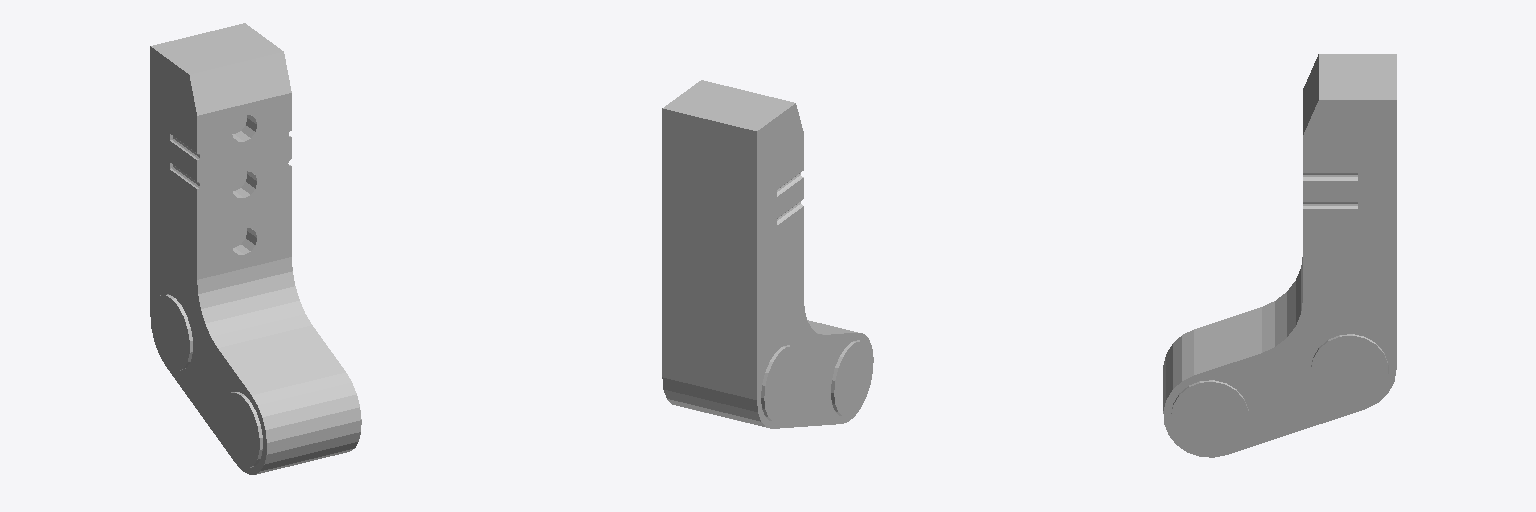
File: right_inner_finger_visuals_mesh_0.obj
3 renders of one model, left to right at view 1: azimuth 30°, elevation 25°; view 2: azimuth 150°, elevation 25°; view 3: azimuth 270°, elevation 25°, orthographic.
Size of the model in its own units: 0.015 by 0.0505 by 0.0299.